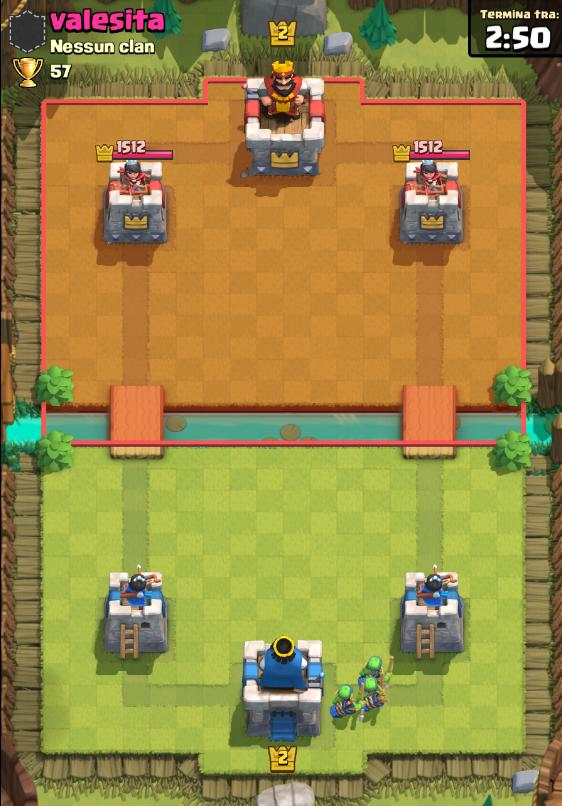ally_spear_goblin: (328, 682, 360, 729), (359, 656, 391, 693), (360, 677, 381, 727)
